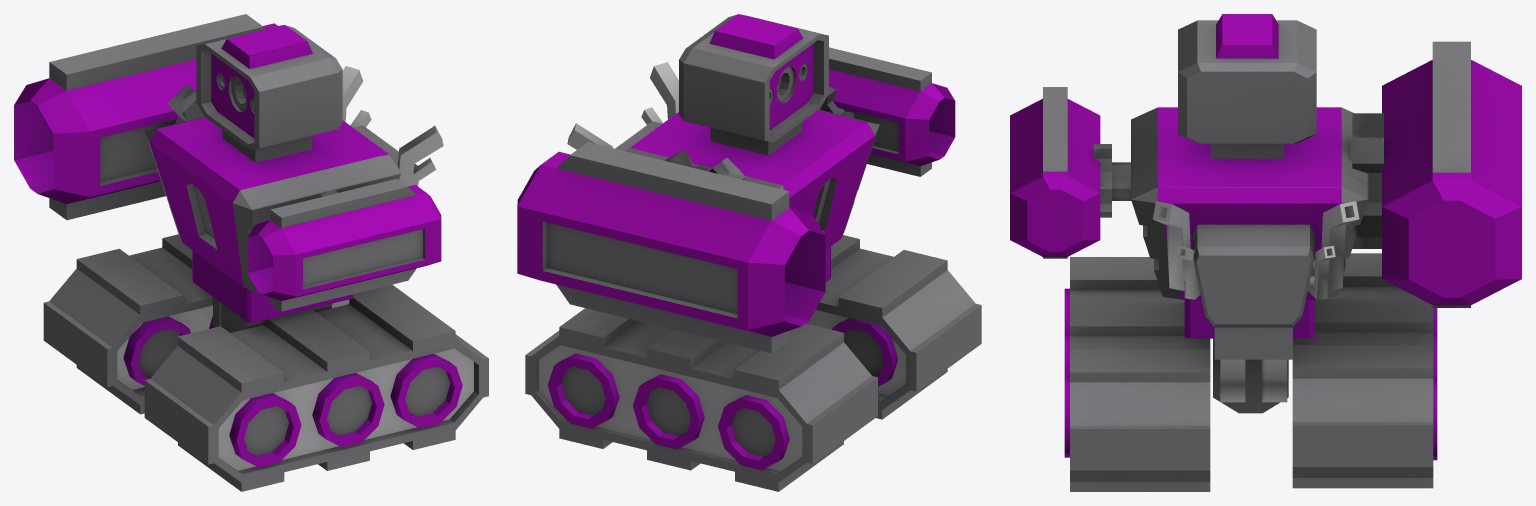
Rendered from Enemy2_Idle5.obj.
3 views of the same model, side by side, from view 1: azimuth 30°, elevation 25°; view 2: azimuth 150°, elevation 25°; view 3: azimuth 270°, elevation 25° (orthographic). The views are drawn at different scales.
Visible parts, largest first — view 1: Object006, Object007, Object010, Object009; view 2: Object006, Object007, Object010, Object009; view 3: Object006, Object007, Object010, Object009, Object008.
Part boxes in pixels (<box>): Object006: <box>14,14,488,491</box>; Object007: <box>144,25,400,332</box>; Object010: <box>332,66,443,307</box>; Object009: <box>168,84,204,123</box>; Object006: <box>517,47,981,491</box>; Object007: <box>627,14,879,323</box>; Object010: <box>567,62,678,151</box>; Object009: <box>664,149,745,179</box>; Object006: <box>1010,41,1521,491</box>; Object007: <box>1131,14,1368,413</box>; Object010: <box>1153,201,1359,402</box>; Object009: <box>1352,113,1383,248</box>; Object008: <box>1093,144,1131,217</box>.
Size of the model in its own units: 87.45 by 109 by 125.
